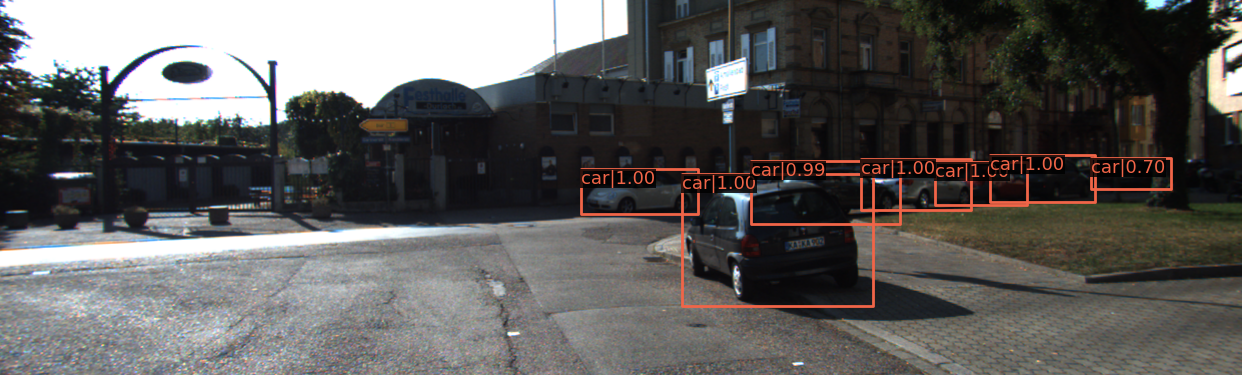car: (685, 180, 866, 298), (772, 165, 900, 221), (866, 164, 973, 212), (586, 170, 694, 217), (1003, 157, 1094, 201), (955, 166, 1035, 205)
